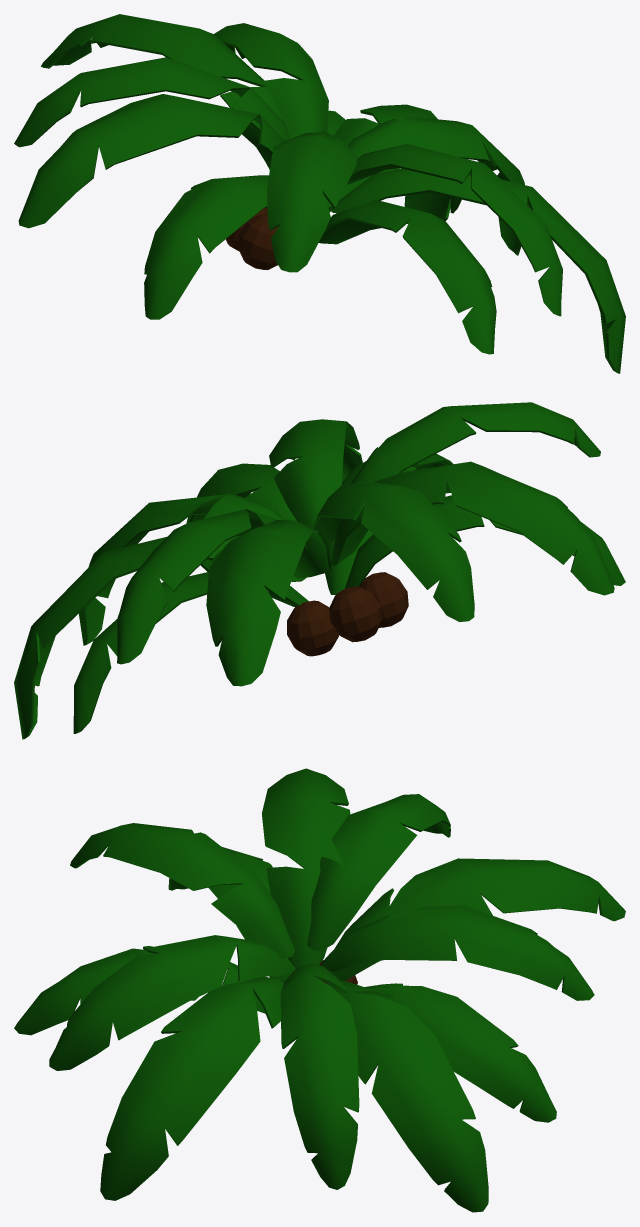
File: palm2Korona.fbx
The picture shows the model from 3 angles, top to bottom: view 1: azimuth 30°, elevation 25°; view 2: azimuth 150°, elevation 25°; view 3: azimuth 270°, elevation 25°; orthographic projection. The views are drawn at different scales.
Visible parts, largest first — view 1: Sphere001; view 2: Sphere001; view 3: Sphere001.
Part boxes in pixels (x1=…): Sphere001: x1=14, y1=14, x2=625, y2=373; Sphere001: x1=14, y1=402, x2=625, y2=739; Sphere001: x1=14, y1=768, x2=625, y2=1212.
Bounding box in the file's own units: 177 × 93.64 × 196.
